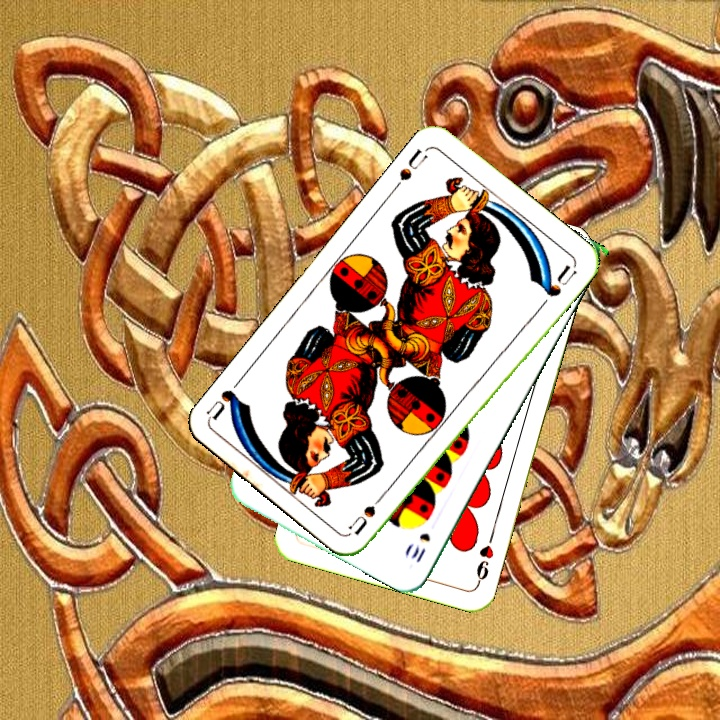H9: (472, 530, 497, 588)
S10: (407, 528, 433, 566)
SU: (346, 485, 391, 538), (395, 145, 430, 184)
